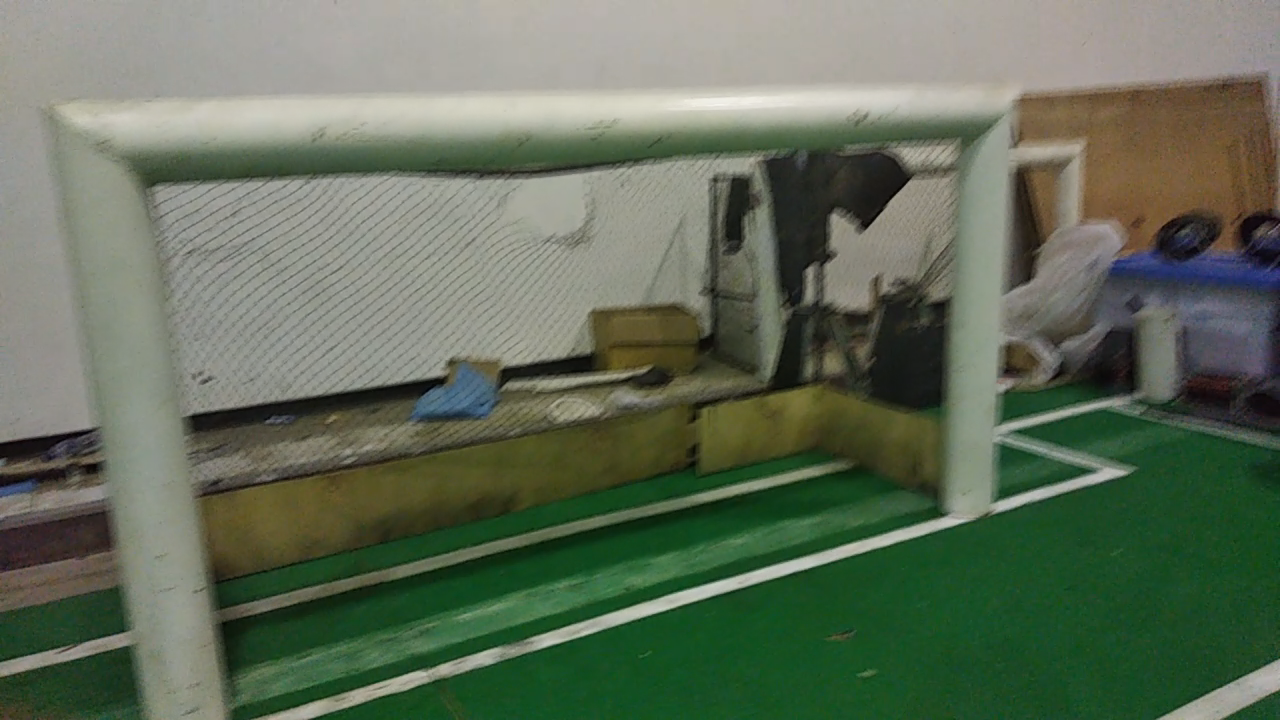gawang: (28, 61, 1032, 717)
